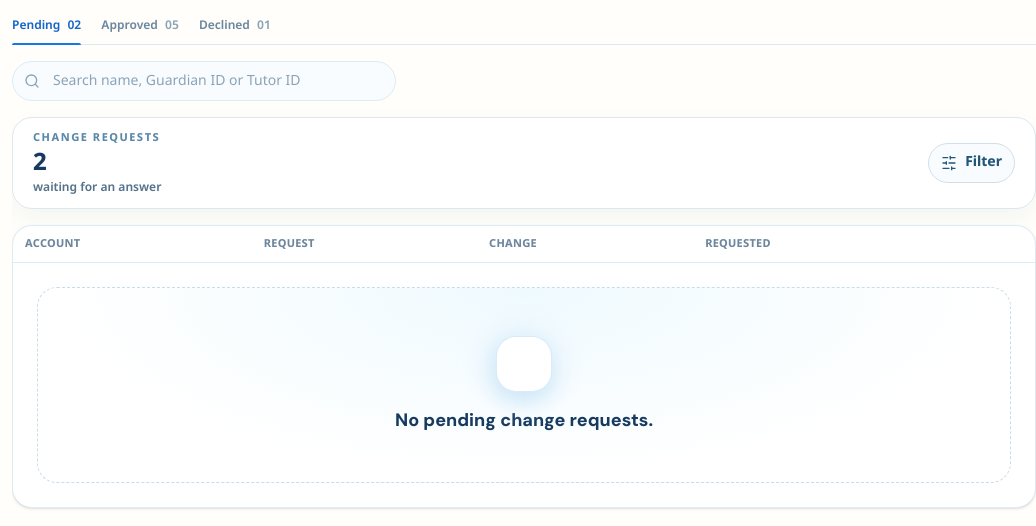
Scenario: the card, search and filter panel over the Change requests › heads the queue with the count of the tab open, and follows the tab
expect the text "Change Requests" is shown: met, box [33,130,161,146]
expect the text "2" is shown: met, box [33,148,46,180]
Click the tab "Declined 01" at (235, 28), box [199,12,271,44]
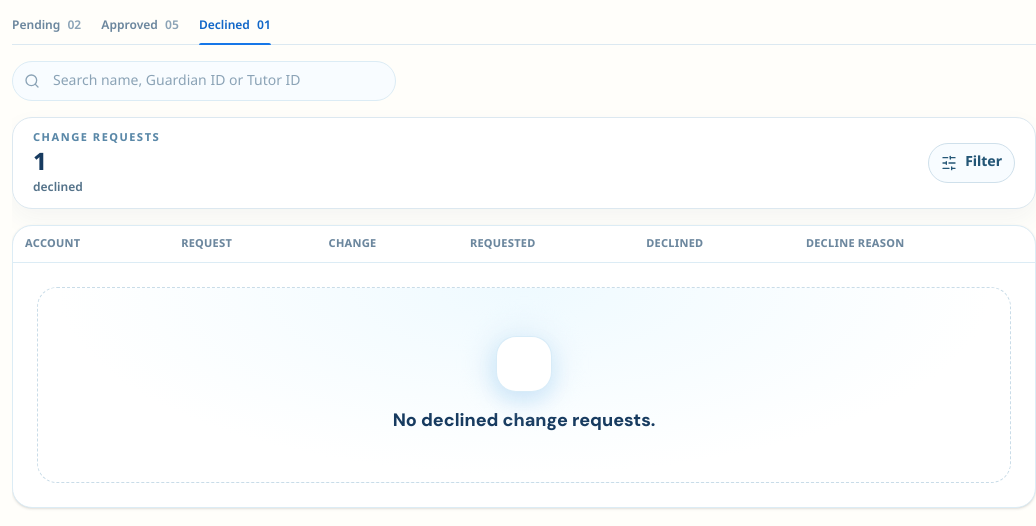
expect the text "1" is shown: met, box [33,148,46,180]
expect the text "declined" is shown: met, box [33,180,83,196]
